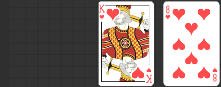8H: (165, 5, 172, 21)
